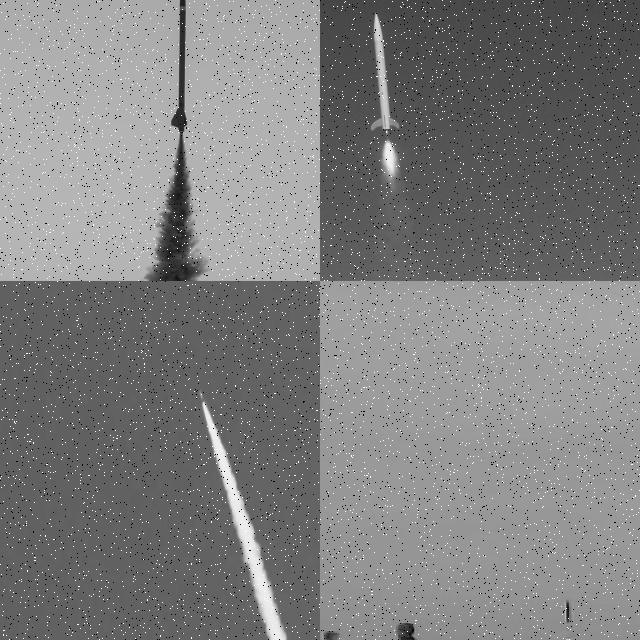Rocket: (370, 12, 400, 132), (171, 0, 188, 133), (562, 598, 578, 640), (199, 389, 205, 405)
